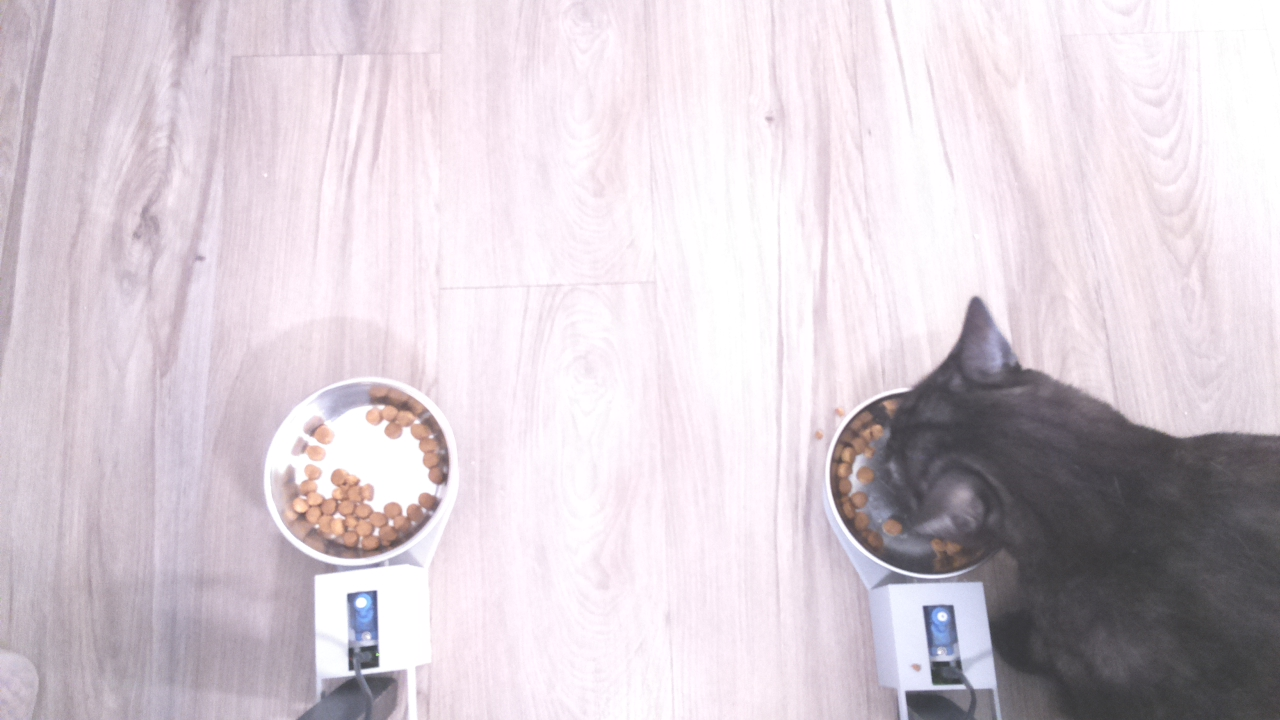open_bowl: (251, 373, 463, 571)
saki_eating: (823, 291, 1097, 582)
